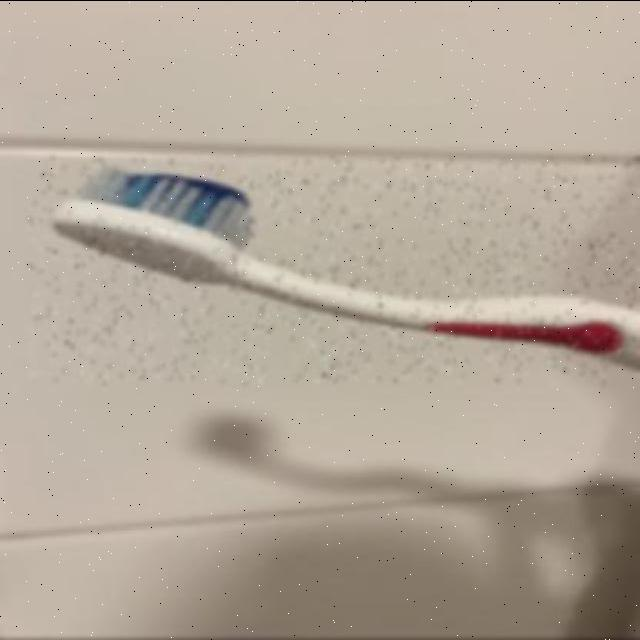toothbrush: (30, 158, 640, 384)
